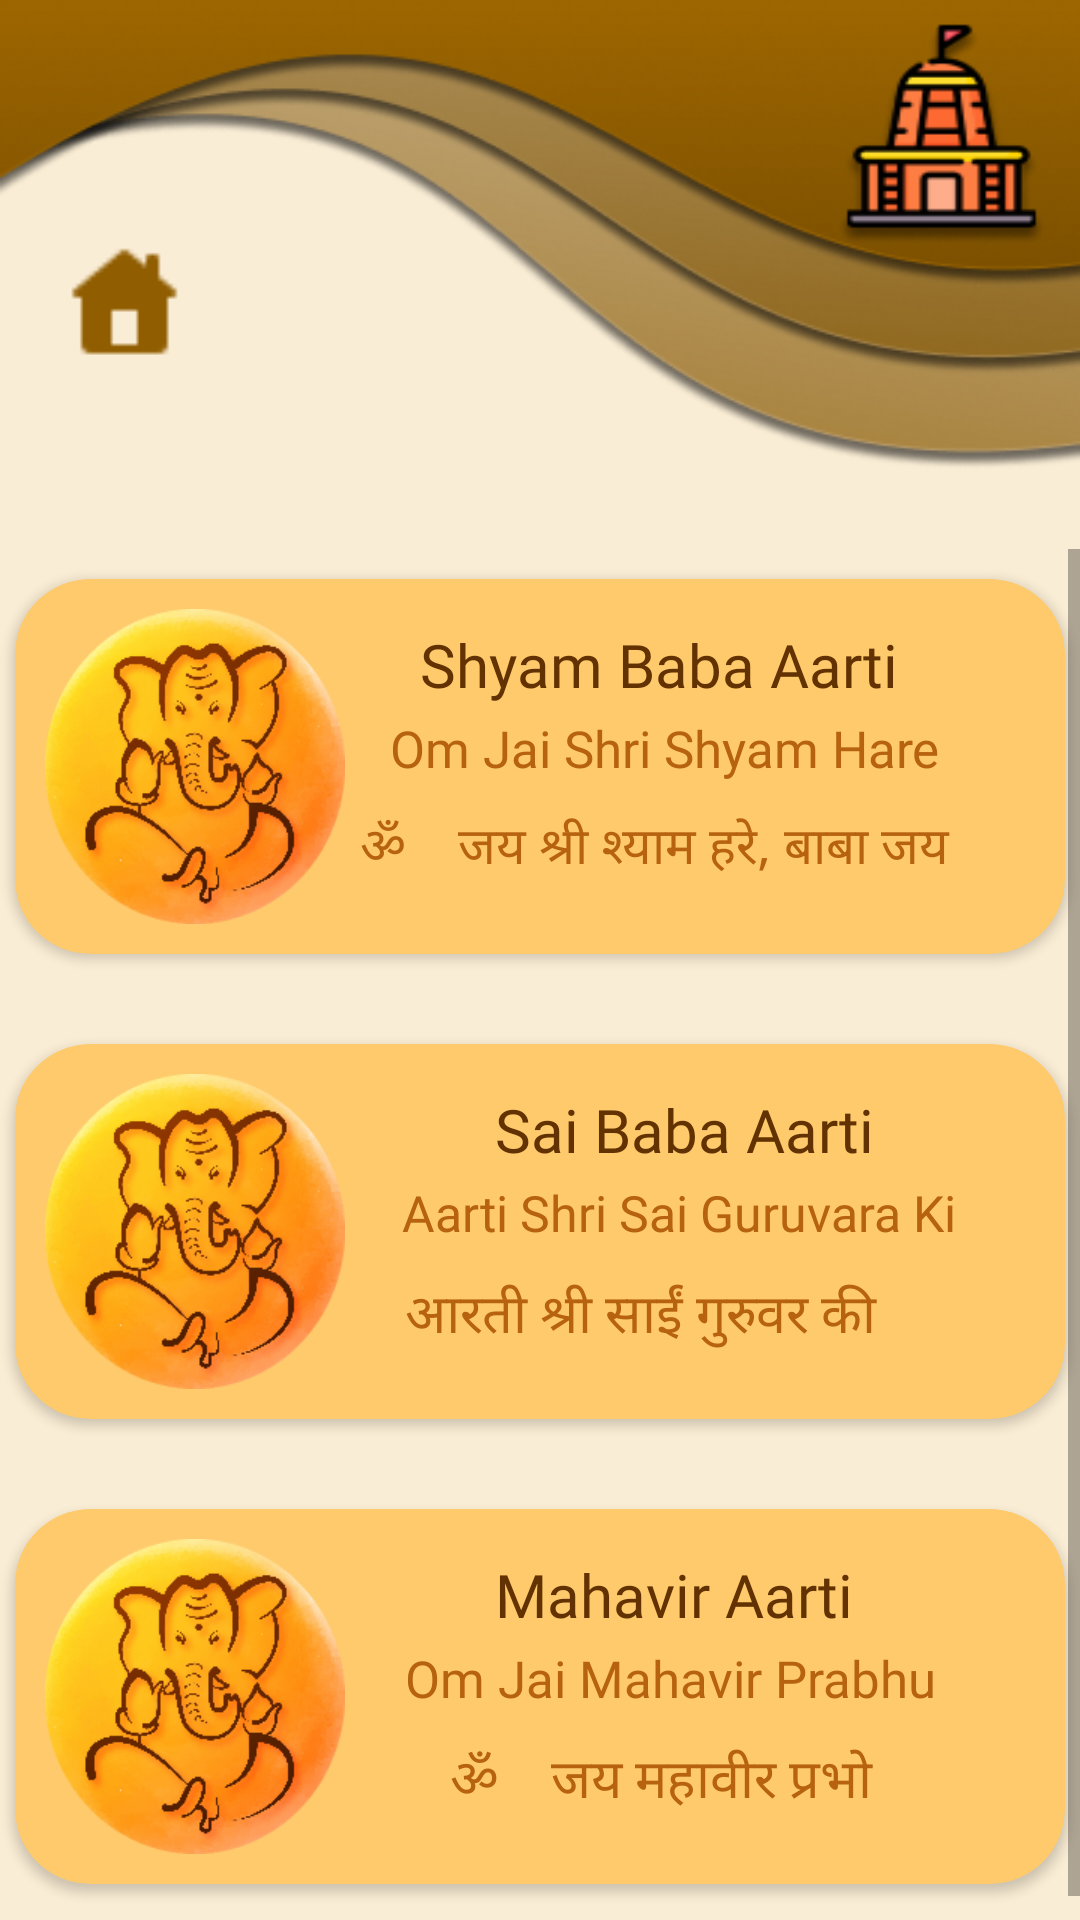

Screen size 1080px x 1920px. Icon name, then its center in pixels as (x=x, y=y):
ganeshji: (x=195, y=766), (x=195, y=1231), (x=195, y=1696)
homeicon: (x=124, y=302)
